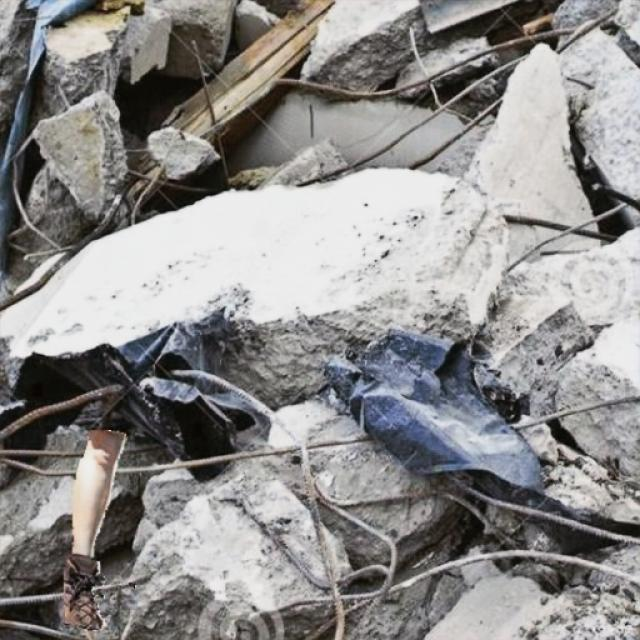Person in Rubble: (64, 430, 134, 629)
